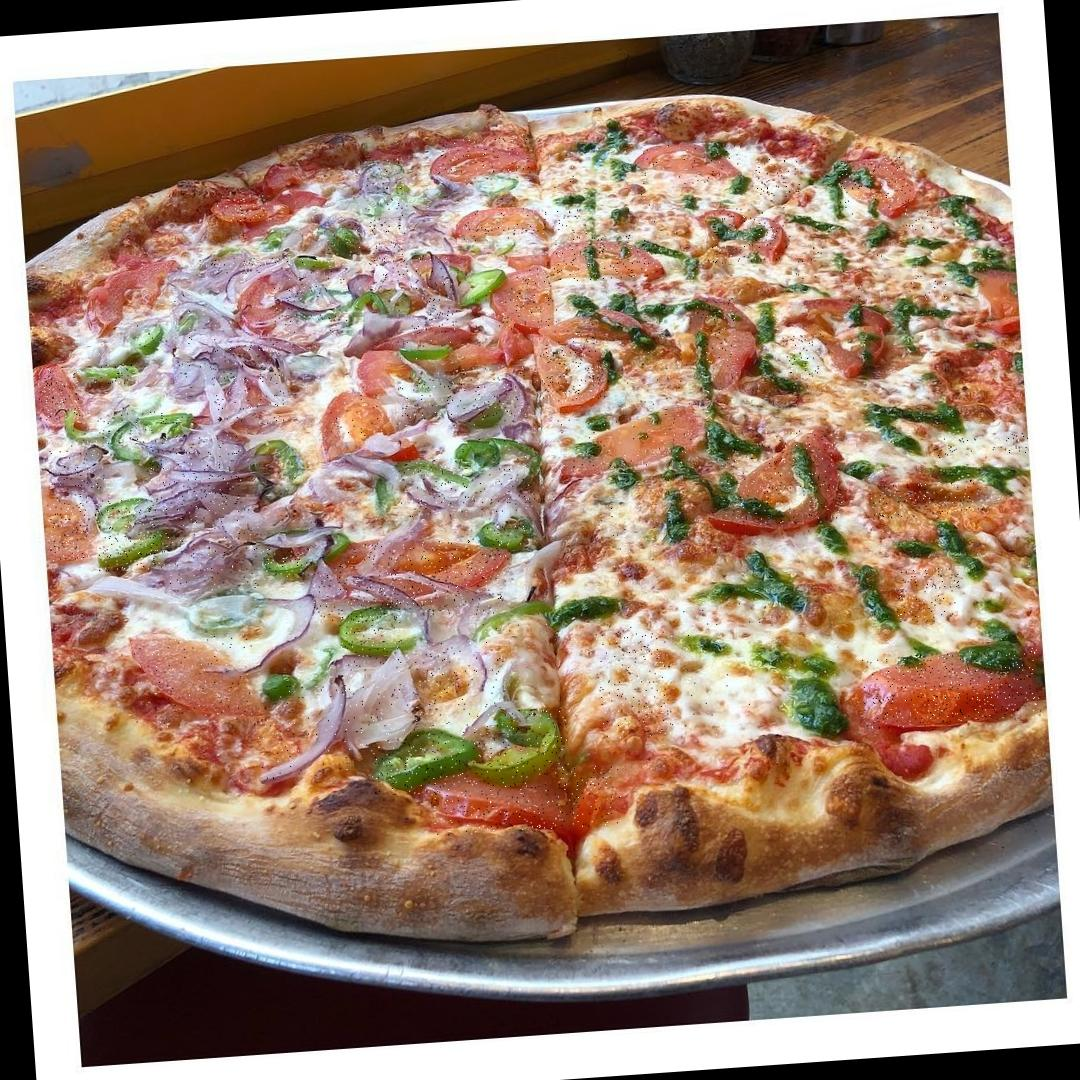Cheese: (594, 622, 675, 740), (681, 657, 754, 746), (599, 501, 657, 586), (869, 480, 986, 522), (623, 351, 693, 409), (894, 566, 962, 624), (628, 175, 682, 240), (682, 601, 770, 638), (931, 432, 1030, 460), (782, 334, 828, 382), (753, 158, 801, 200), (854, 254, 896, 300), (791, 234, 828, 280), (908, 272, 948, 304), (550, 152, 582, 191), (902, 211, 942, 234), (558, 210, 587, 241)
Onion: (312, 554, 506, 624), (255, 677, 354, 780), (162, 504, 264, 595), (394, 366, 532, 431), (421, 638, 511, 730), (344, 650, 426, 748), (395, 465, 536, 521), (149, 434, 246, 513), (210, 340, 288, 428), (169, 278, 222, 403), (402, 254, 458, 335), (274, 275, 349, 335), (48, 447, 109, 494), (366, 216, 405, 285), (401, 200, 456, 246), (358, 160, 406, 212), (196, 254, 292, 278)
Peppers: (462, 708, 570, 784), (370, 730, 476, 798), (66, 410, 188, 453), (339, 607, 404, 656), (98, 530, 172, 573), (474, 600, 548, 636), (456, 434, 530, 468), (346, 288, 416, 320), (92, 498, 156, 530), (398, 458, 465, 488), (454, 268, 507, 302), (478, 516, 532, 548), (262, 547, 316, 579), (401, 338, 454, 364), (398, 338, 454, 362), (86, 364, 139, 388), (326, 223, 362, 257), (130, 324, 168, 352), (292, 252, 336, 275)
Pizza: (25, 76, 1052, 944)
Tomatoes: (862, 647, 1043, 730), (430, 764, 625, 837), (716, 428, 844, 529), (132, 632, 260, 730), (558, 410, 704, 477), (348, 536, 510, 594), (428, 135, 535, 184), (556, 233, 659, 283), (538, 329, 606, 404), (704, 206, 788, 266), (643, 141, 743, 190), (836, 157, 913, 216), (494, 268, 559, 331), (694, 296, 740, 382), (456, 206, 550, 242), (46, 494, 93, 562), (326, 394, 384, 446), (37, 367, 81, 421), (215, 193, 272, 223)
